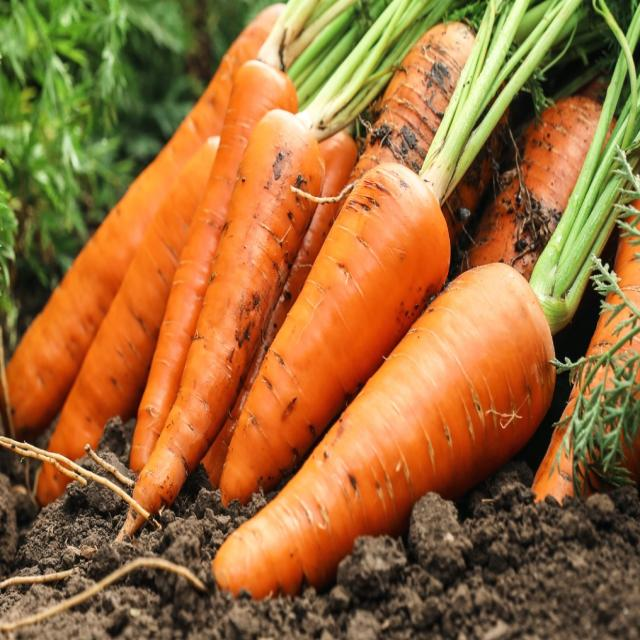carrot: (6, 3, 284, 436), (213, 263, 556, 599), (220, 162, 451, 504), (134, 109, 324, 513), (130, 59, 298, 472), (49, 137, 218, 459)
